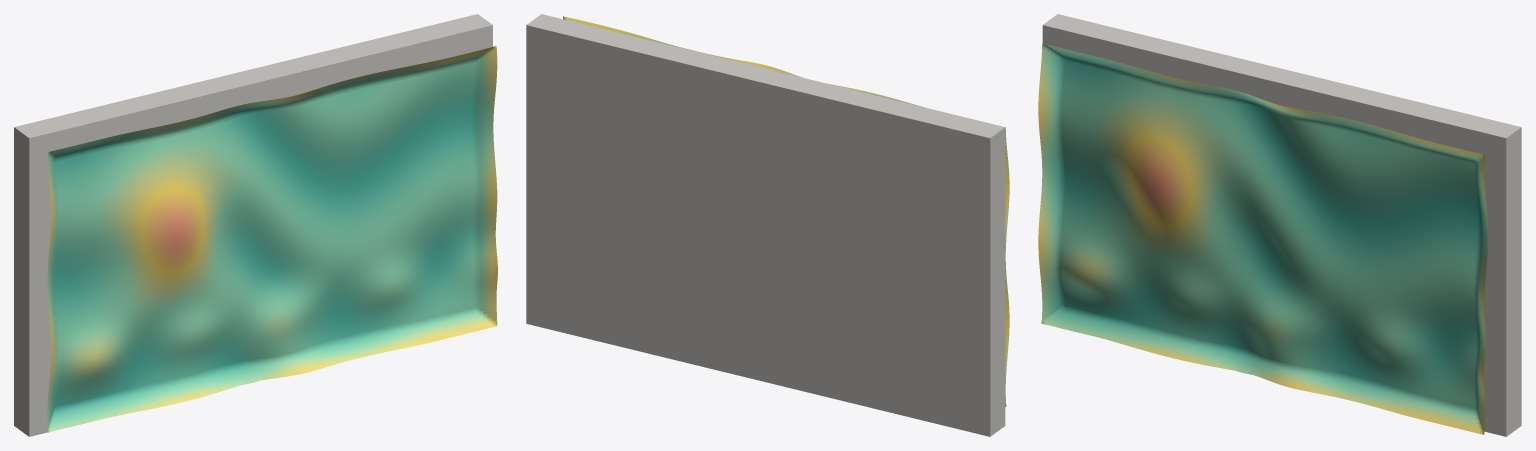
The model's file is obra_004.glb.
The picture shows the model from 3 angles, left to right: view 1: azimuth 30°, elevation 25°; view 2: azimuth 150°, elevation 25°; view 3: azimuth 330°, elevation 25°; orthographic projection.
Visible parts, largest first — view 1: Latido de Barrio - relieve; view 2: Latido de Barrio - relieve; view 3: Latido de Barrio - relieve.
Part boxes in pixels (x1,y1,x2,y2): Latido de Barrio - relieve: (14,14,497,436); Latido de Barrio - relieve: (526,14,1009,436); Latido de Barrio - relieve: (1038,14,1521,436).
Bounding box in the file's own units: 2.08 × 1.28 × 0.2502.
